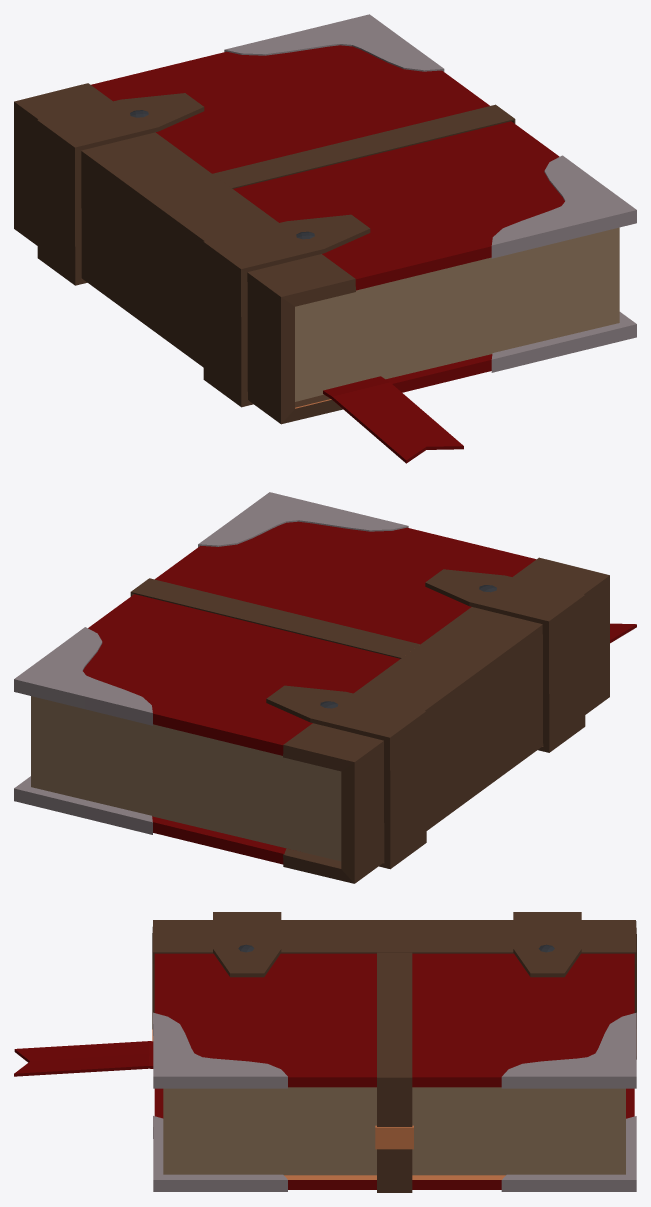
The model's file is Livro.fbx.
3 views of the same model, one above another, from view 1: azimuth 30°, elevation 25°; view 2: azimuth 150°, elevation 25°; view 3: azimuth 270°, elevation 25° (orthographic). The views are drawn at different scales.
Visible parts, largest first — view 1: Livro; view 2: Livro; view 3: Livro.
Part boxes in pixels (x1,y1,x2,y2): Livro: [14, 14, 636, 463]; Livro: [14, 492, 636, 883]; Livro: [14, 912, 636, 1192].
Bounding box in the file's own units: 23.1 × 8.44 × 37.61.
